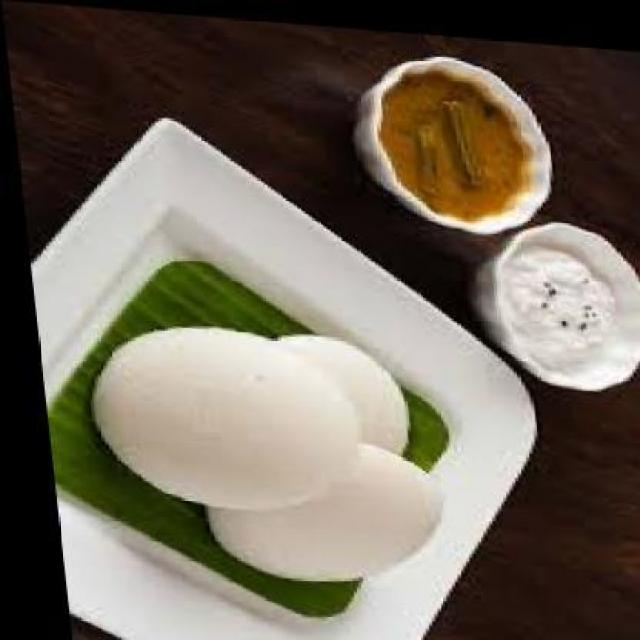idli: (74, 317, 355, 512), (188, 428, 437, 584), (265, 326, 400, 449)
